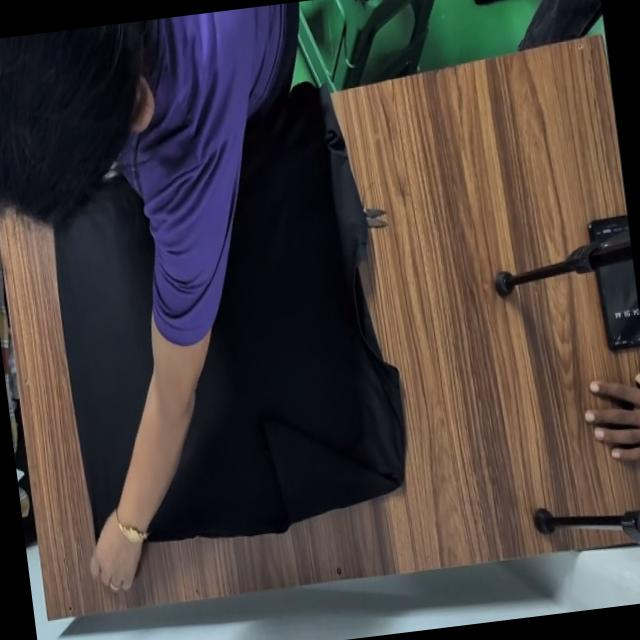new-garment: (150, 86, 404, 541), (55, 179, 155, 529)
